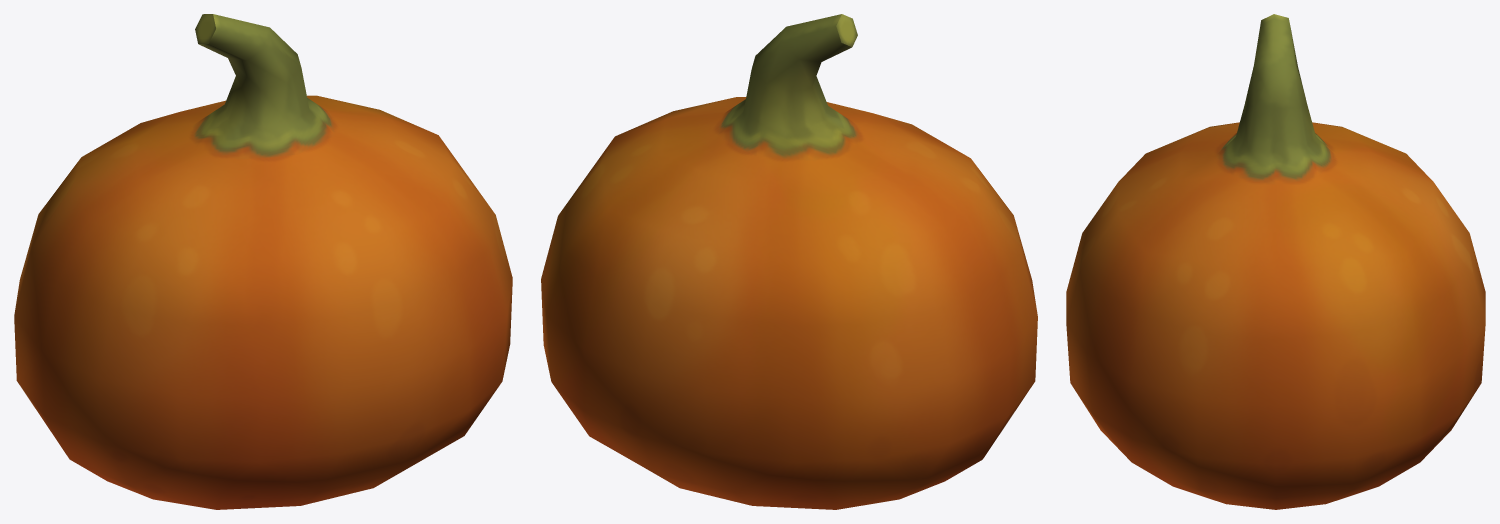
File: pumpkin04.fbx
3 views of the same model, side by side, from view 1: azimuth 30°, elevation 25°; view 2: azimuth 150°, elevation 25°; view 3: azimuth 270°, elevation 25° (orthographic). The views are drawn at different scales.
Parts seen in each view (by area): view 1: pumpkin04; view 2: pumpkin04; view 3: pumpkin04.
Part boxes in pixels (left/top/right/bottom): pumpkin04: left=14, top=14, right=512, bottom=509; pumpkin04: left=541, top=14, right=1037, bottom=509; pumpkin04: left=1066, top=14, right=1485, bottom=509.
Size of the model in its own units: 91.3 by 91.79 by 82.2.
